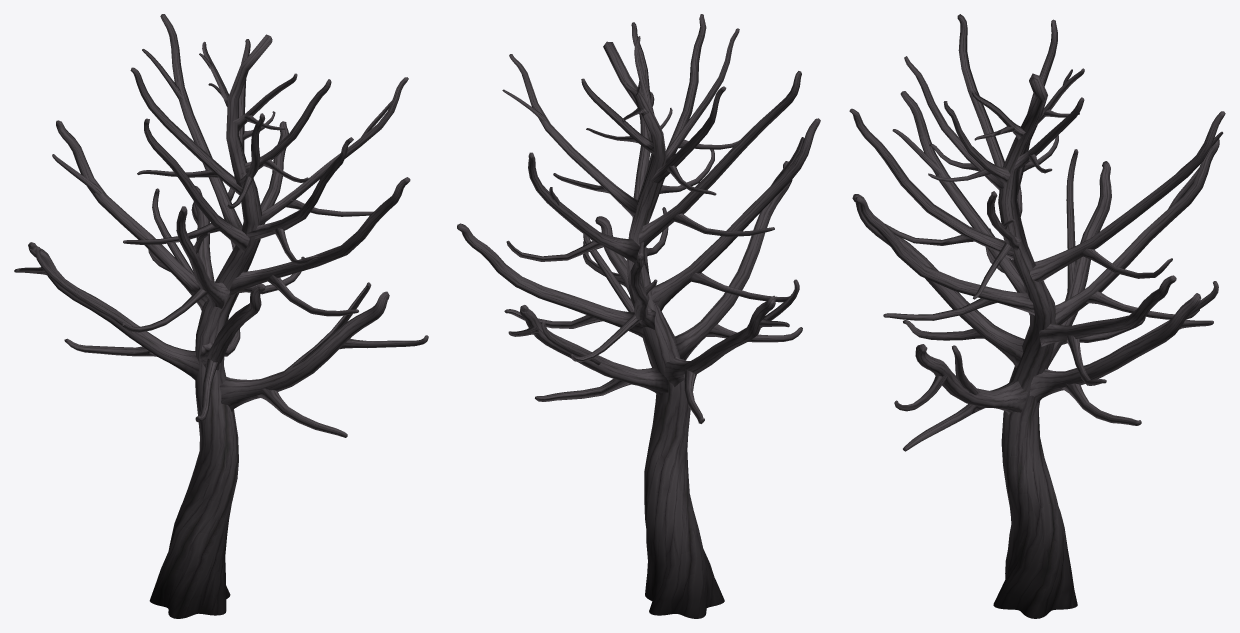
The model's file is deadtree_1.gltf.
3 renders of one model, left to right at view 1: azimuth 30°, elevation 25°; view 2: azimuth 150°, elevation 25°; view 3: azimuth 270°, elevation 25°, orthographic. The views are drawn at different scales.
Parts seen in each view (by area): view 1: DeadTree_1; view 2: DeadTree_1; view 3: DeadTree_1.
Part boxes in pixels (left/top/right/bottom): DeadTree_1: left=14, top=14, right=428, bottom=618; DeadTree_1: left=457, top=14, right=820, bottom=618; DeadTree_1: left=849, top=14, right=1225, bottom=618.
Bounding box in the file's own units: 6.15 × 9.5 × 5.75.
1 material, 1 textured.
